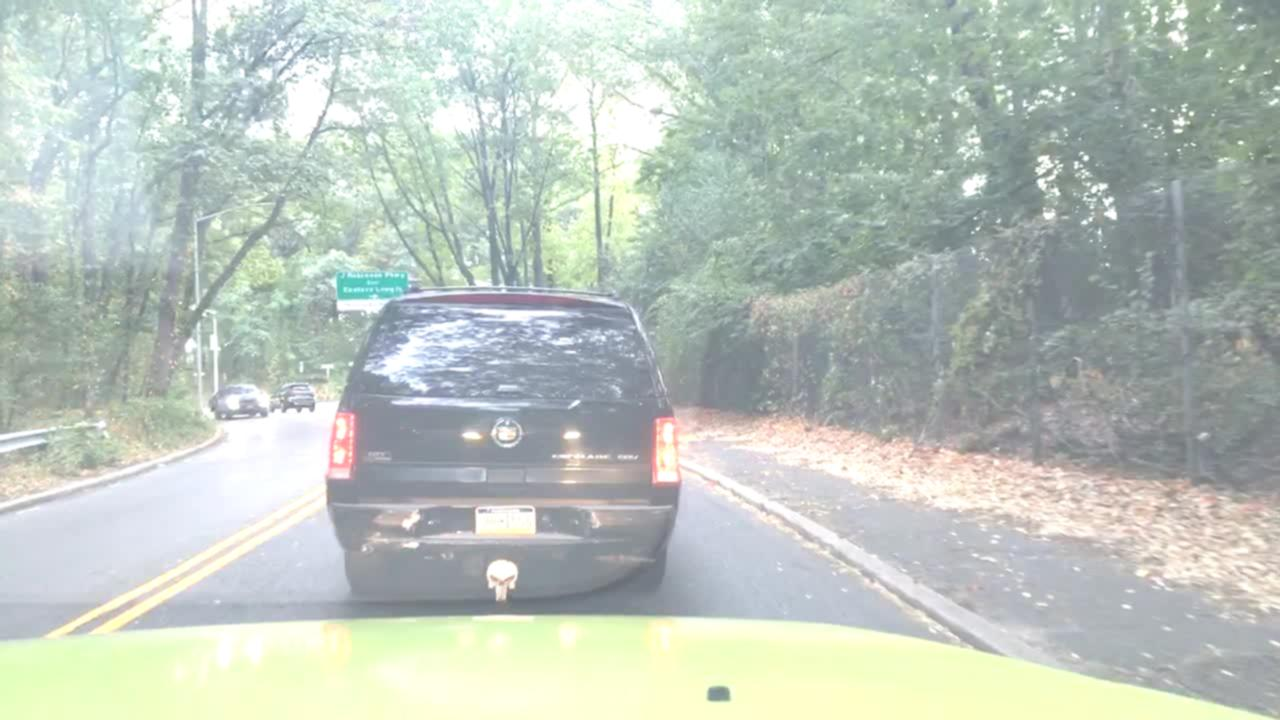cadillac: (494, 423, 520, 443)
